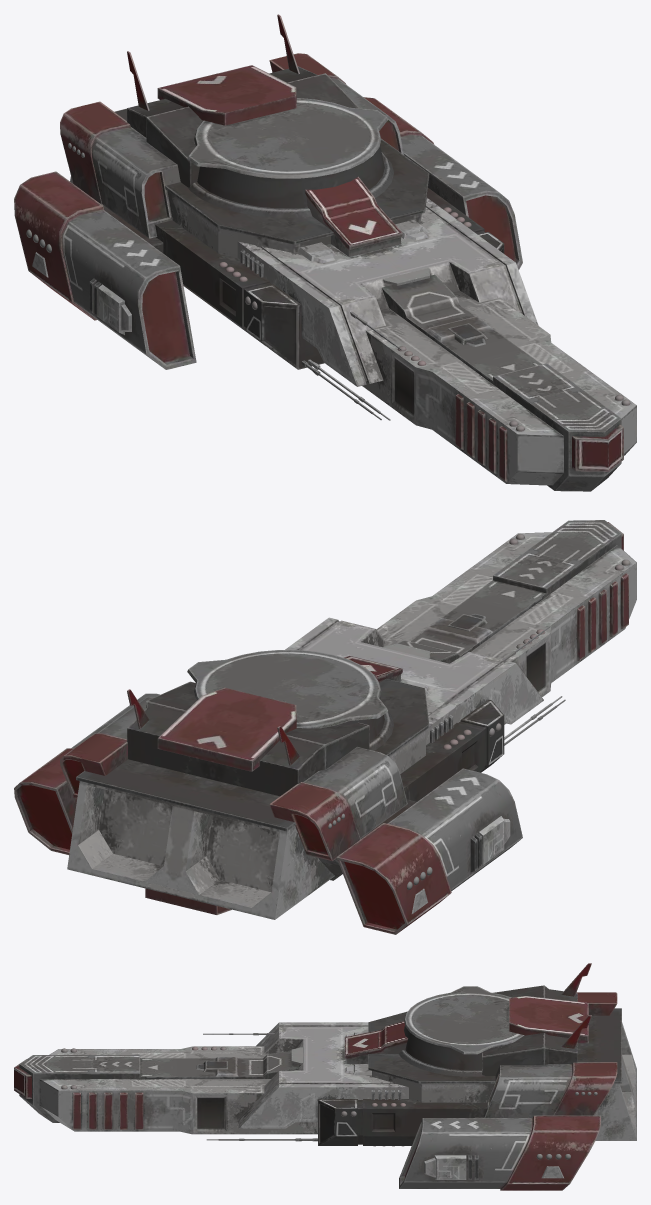
File: ship-insurgent.gltf
3 renders of one model, top to bottom at view 1: azimuth 30°, elevation 25°; view 2: azimuth 150°, elevation 25°; view 3: azimuth 270°, elevation 25°, orthographic. The views are drawn at different scales.
Parts seen in each view (by area): view 1: insurgent; view 2: insurgent; view 3: insurgent.
Part boxes in pixels (x1=…): insurgent: x1=14, y1=14, x2=636, y2=491; insurgent: x1=14, y1=520, x2=636, y2=934; insurgent: x1=14, y1=963, x2=636, y2=1190.
Size of the model in its own units: 5.57 by 2.87 by 10.95.
1 material, 1 textured.
